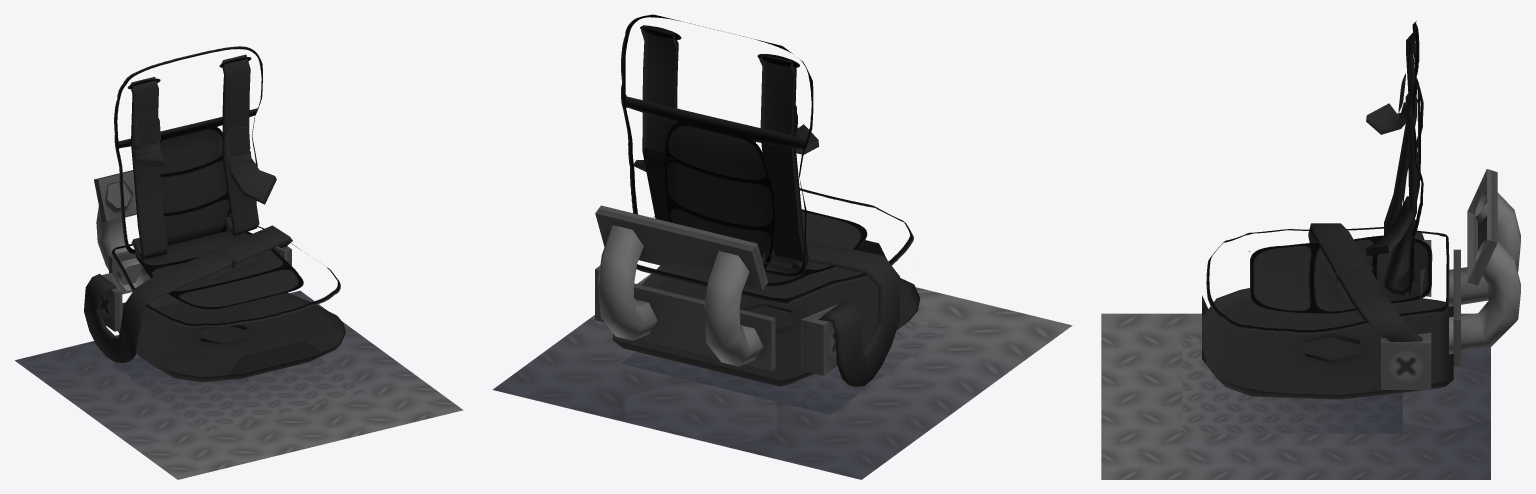
File: obj_interactive_seat_02.fbx
The picture shows the model from 3 angles, left to right: view 1: azimuth 30°, elevation 25°; view 2: azimuth 150°, elevation 25°; view 3: azimuth 270°, elevation 25°; orthographic projection. The views are drawn at different scales.
Parts seen in each view (by area): view 1: obj_interactive_seat_02; view 2: obj_interactive_seat_02; view 3: obj_interactive_seat_02.
Boxes of the visible parts, x1,y1,x2,y2 form: obj_interactive_seat_02: [15, 46, 463, 479]; obj_interactive_seat_02: [492, 14, 1072, 479]; obj_interactive_seat_02: [1101, 21, 1520, 479].
Size of the model in its own units: 3.5 by 3.45 by 3.73.
